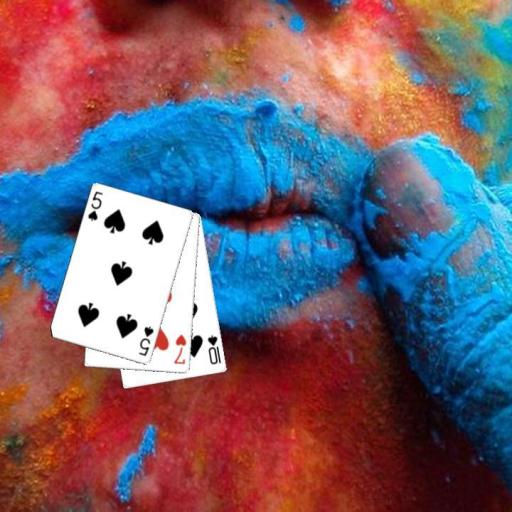10S: (205, 332, 223, 366)
5S: (85, 189, 105, 223), (136, 324, 155, 358)
7H: (171, 332, 188, 367)
